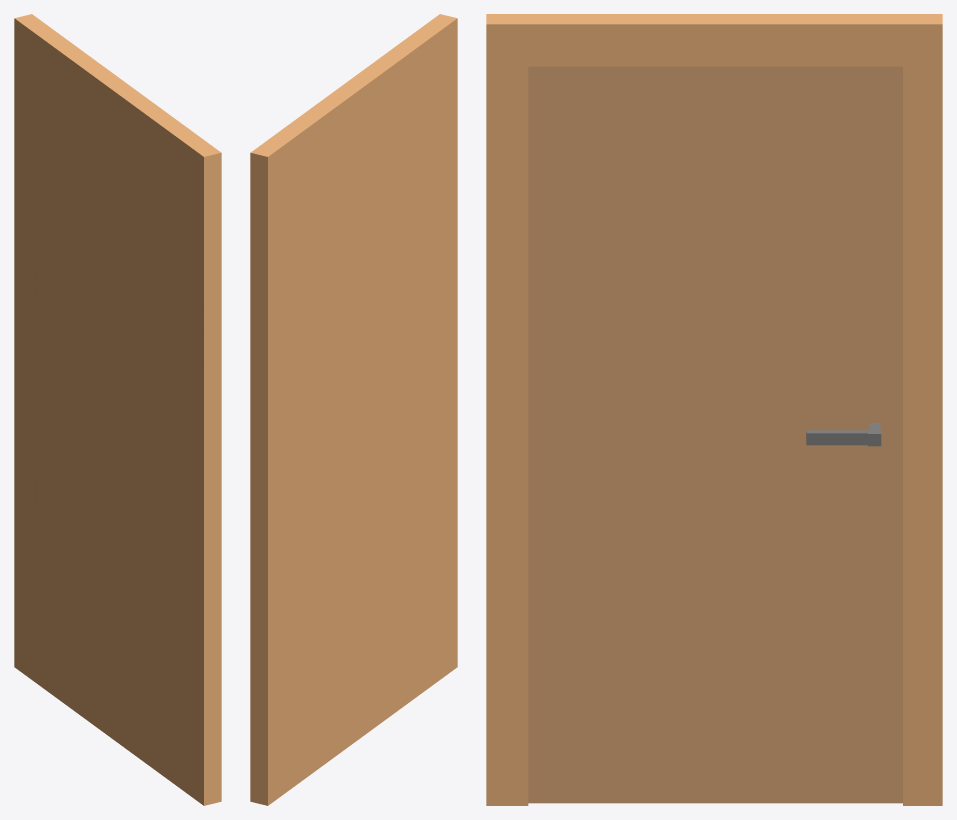
File: Door.fbx
3 views of the same model, side by side, from view 1: azimuth 30°, elevation 25°; view 2: azimuth 150°, elevation 25°; view 3: azimuth 270°, elevation 25° (orthographic). The views are drawn at different scales.
Parts seen in each view (by area): view 1: Door; view 2: Door; view 3: Door.
Boxes of the visible parts, x1,y1,x2,y2 form: Door: (14,14,221,805); Door: (250,14,457,805); Door: (486,14,942,805).
Bounding box in the file's own units: 25.13 × 465 × 246.
